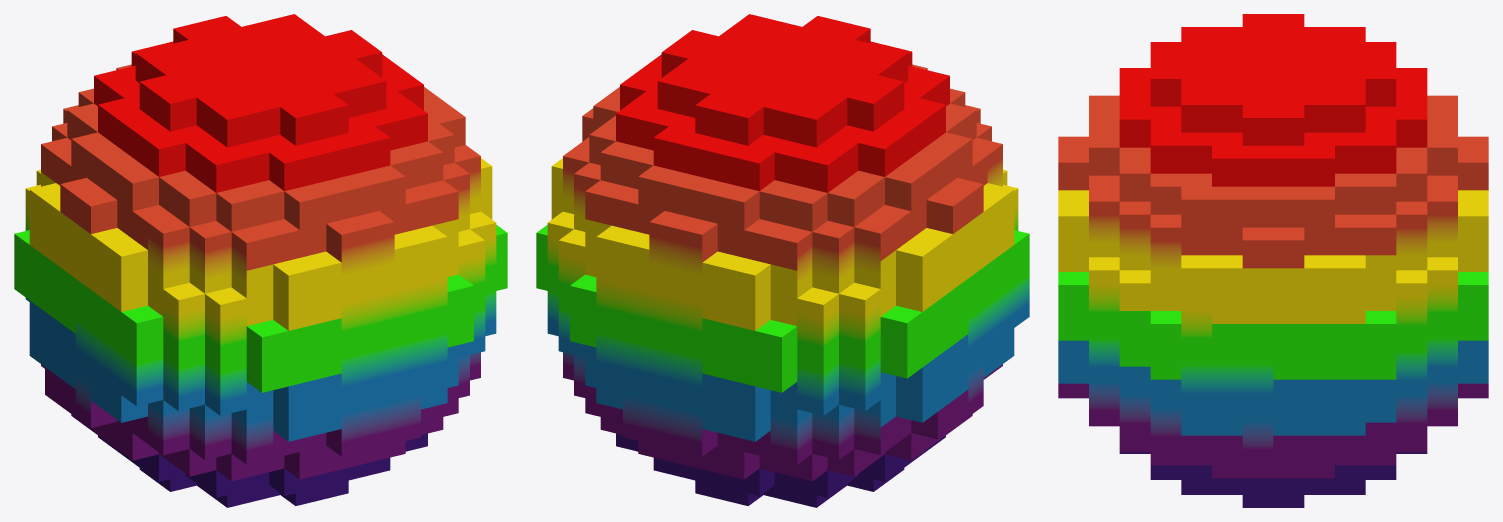
Rendered from boule.dae.
3 renders of one model, left to right at view 1: azimuth 30°, elevation 25°; view 2: azimuth 150°, elevation 25°; view 3: azimuth 270°, elevation 25°, orthographic.
Visible parts, largest first — view 1: Boule_Arc_en_Ciel; view 2: Boule_Arc_en_Ciel; view 3: Boule_Arc_en_Ciel.
Boxes of the visible parts, <box> form: Boule_Arc_en_Ciel: <box>14,14,507,507</box>; Boule_Arc_en_Ciel: <box>536,14,1029,507</box>; Boule_Arc_en_Ciel: <box>1058,14,1488,507</box>.
Size of the model in its own units: 14 by 14 by 14.
Materials: 1 (1 with a texture image).
